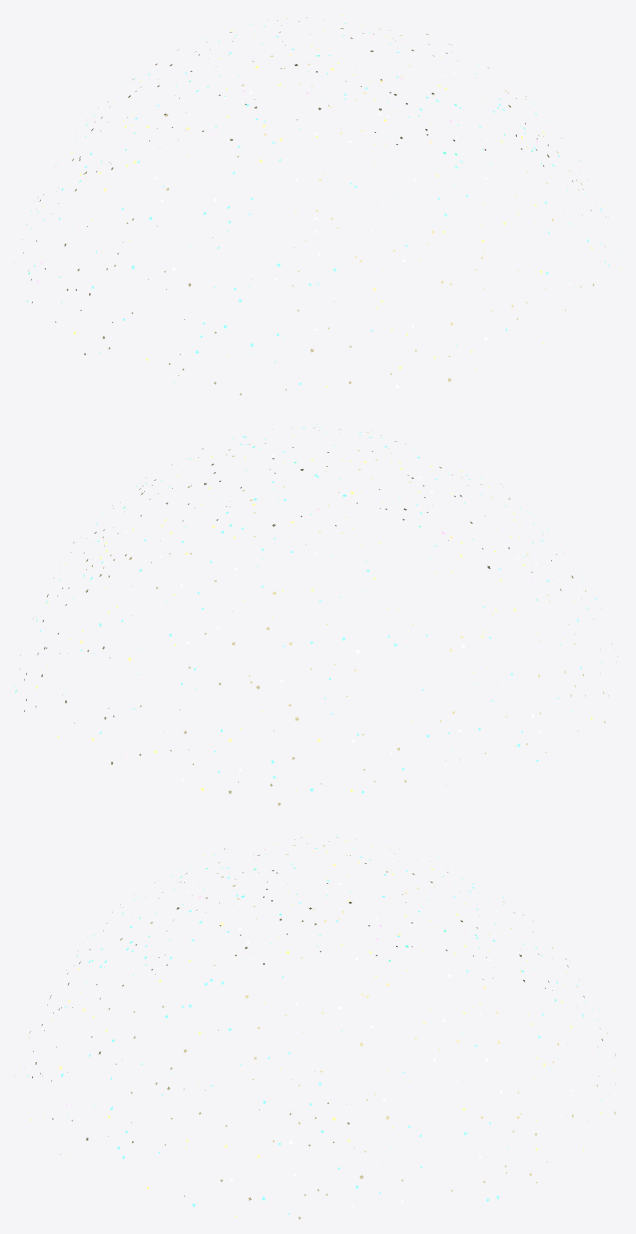
File: SkyStar.fbx
3 views of the same model, one above another, from view 1: azimuth 30°, elevation 25°; view 2: azimuth 150°, elevation 25°; view 3: azimuth 270°, elevation 25° (orthographic).
Parts seen in each view (by area): view 1: SkyStarEmitter; view 2: SkyStarEmitter; view 3: SkyStarEmitter.
Part boxes in pixels (x1,y1,x2,y2): SkyStarEmitter: (22,14,621,395); SkyStarEmitter: (14,424,621,805); SkyStarEmitter: (14,834,621,1219).
Bounding box in the file's own units: 38.83 × 16.05 × 38.67.
